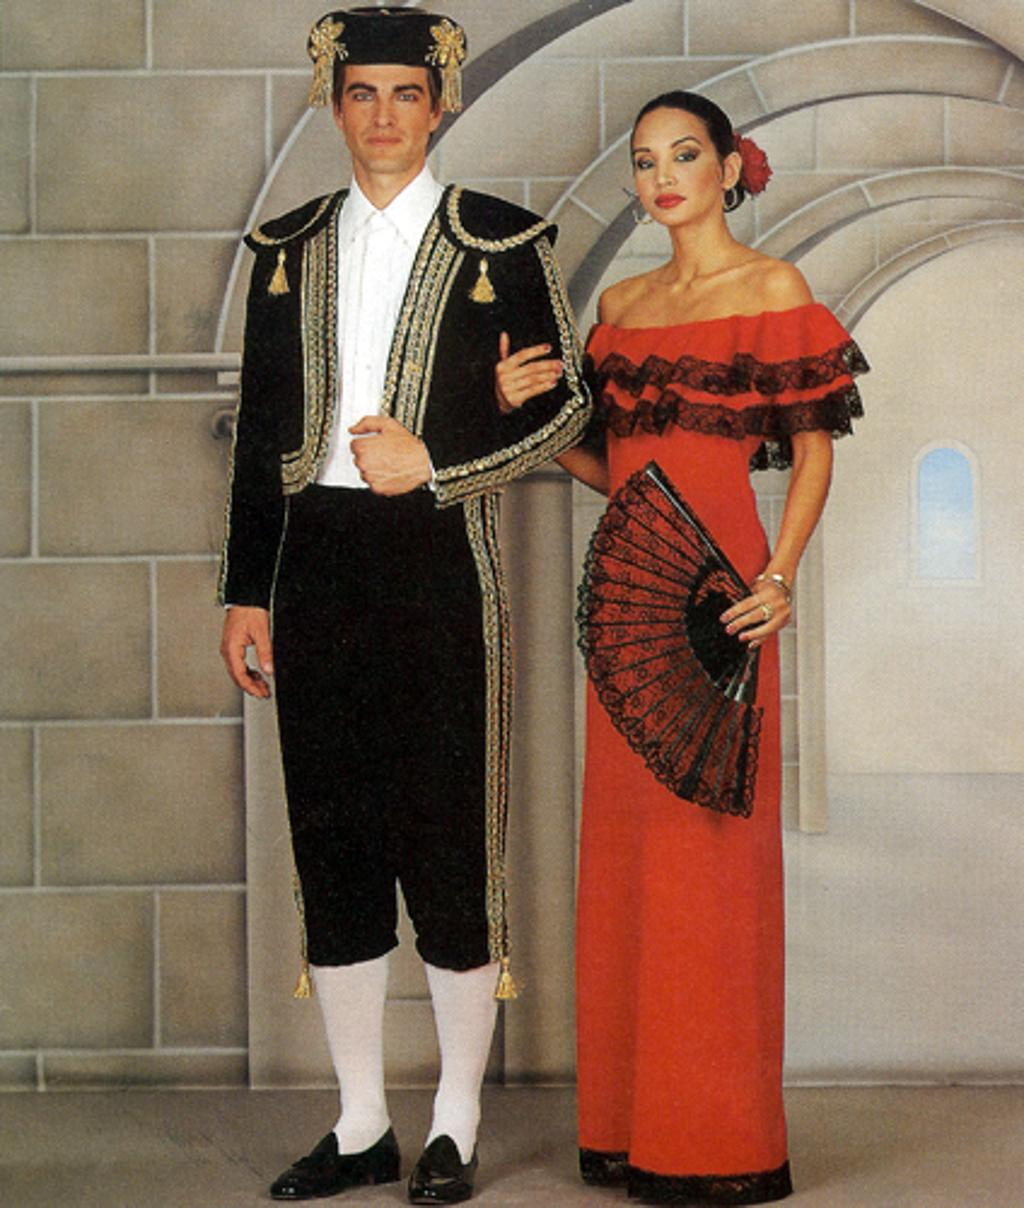face: (335, 33, 434, 175), (630, 109, 722, 222)
